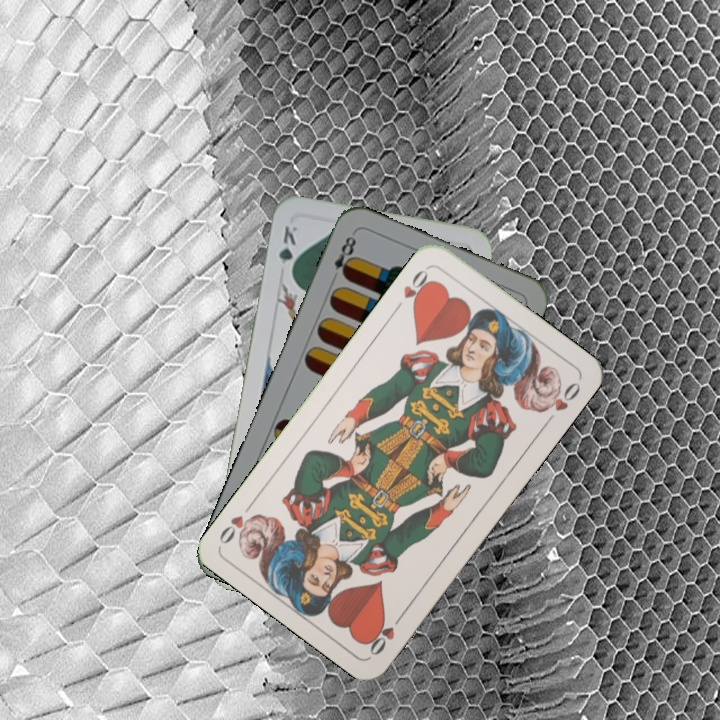E8: (329, 229, 359, 281)
GK: (274, 222, 300, 279)
HO: (390, 263, 436, 314), (363, 608, 407, 659)
